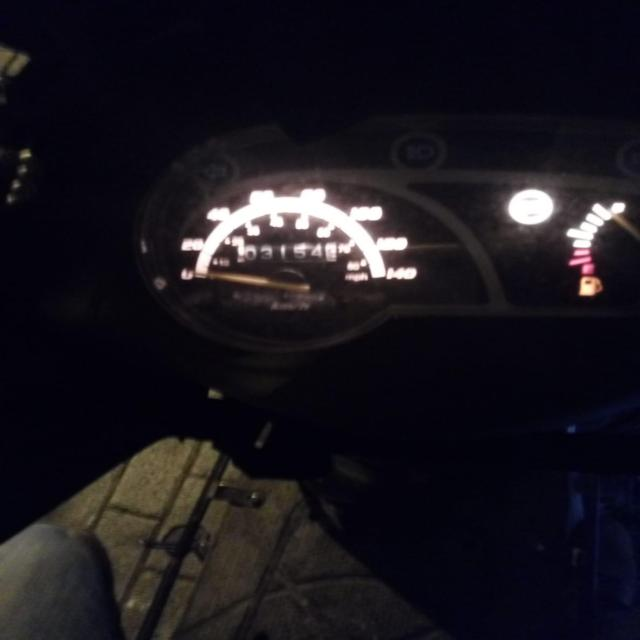odometer: (236, 240, 338, 264)
